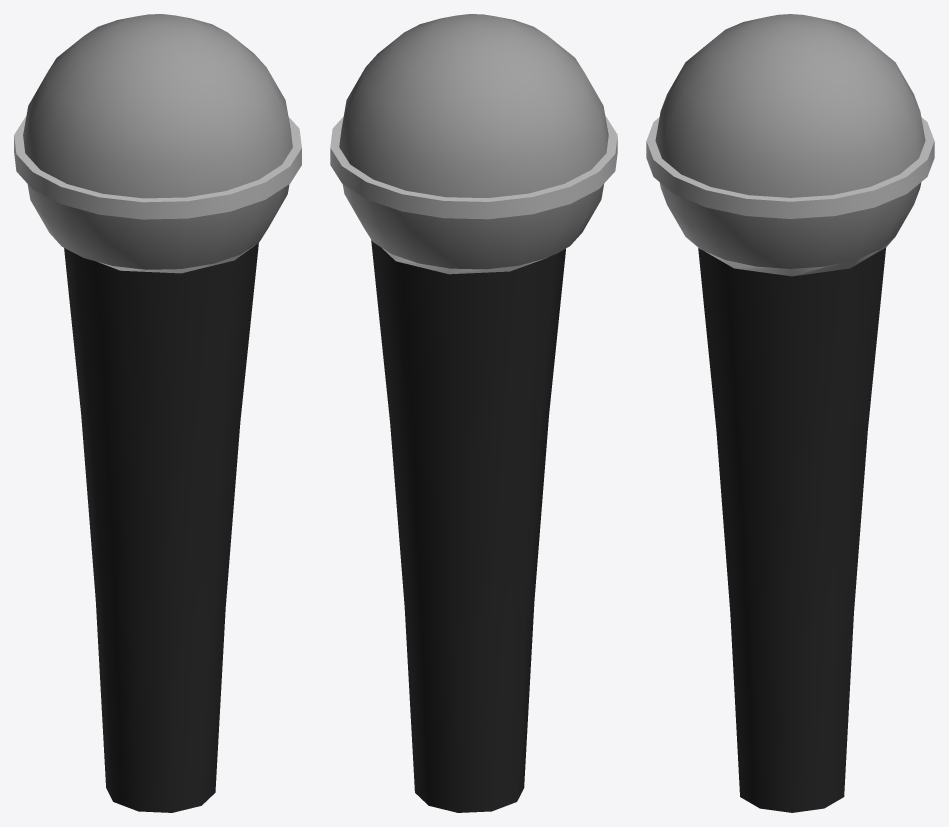
Rendered from 搖滾 麥克風.FBX.
The picture shows the model from 3 angles, left to right: view 1: azimuth 30°, elevation 25°; view 2: azimuth 150°, elevation 25°; view 3: azimuth 270°, elevation 25°; orthographic projection.
Parts seen in each view (by area): view 1: Sphere006; view 2: Sphere006; view 3: Sphere006.
Boxes of the visible parts, box(x1,y1,x2,y2) form: Sphere006: box(14, 14, 301, 812); Sphere006: box(330, 14, 617, 812); Sphere006: box(646, 14, 934, 812).
Bounding box in the file's own units: 5.88 × 17.18 × 5.88.
Materials: 1 (1 with a texture image).
